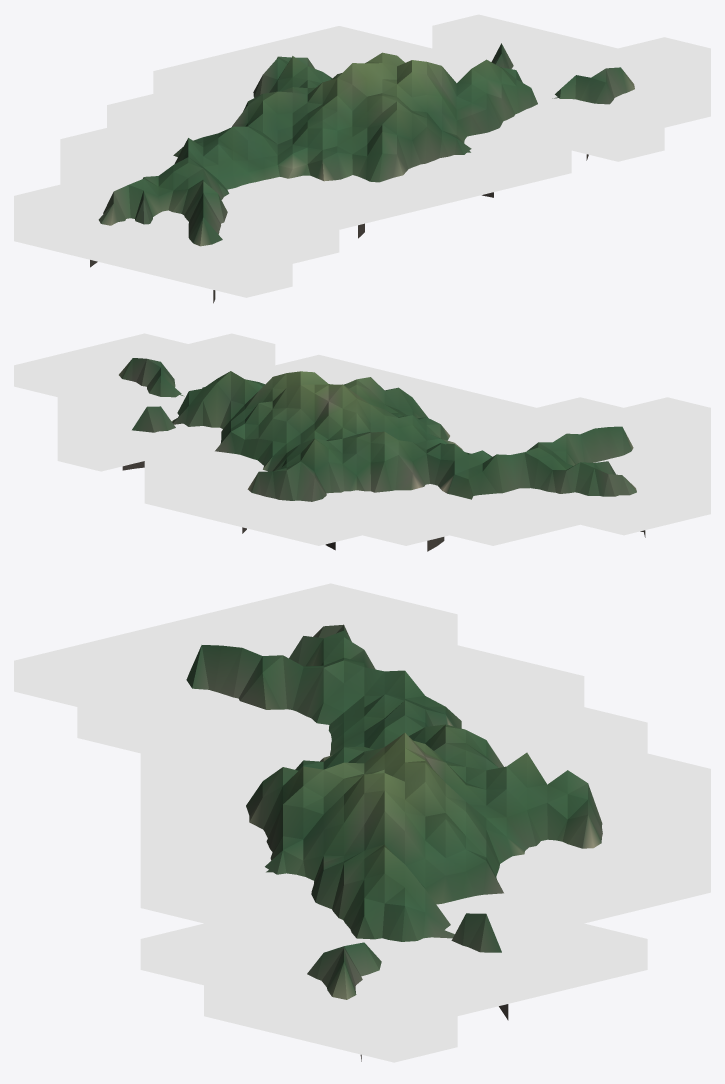
Rendered from landmark-ilha-grande-low.v1.glb.
3 views of the same model, one above another, from view 1: azimuth 30°, elevation 25°; view 2: azimuth 150°, elevation 25°; view 3: azimuth 270°, elevation 25° (orthographic). The views are drawn at different scales.
Visible parts, largest first — view 1: surf, island; view 2: surf, island; view 3: surf, island.
Boxes of the visible parts, x1=… form: surf: x1=14, y1=14, x2=710, y2=297; island: x1=90, y1=43, x2=634, y2=303; surf: x1=14, y1=333, x2=710, y2=545; island: x1=119, y1=358, x2=645, y2=551; surf: x1=14, y1=583, x2=710, y2=1062; island: x1=186, y1=624, x2=602, y2=1061.
Bounding box in the file's own units: 50.22 × 7.8 × 30.86.
